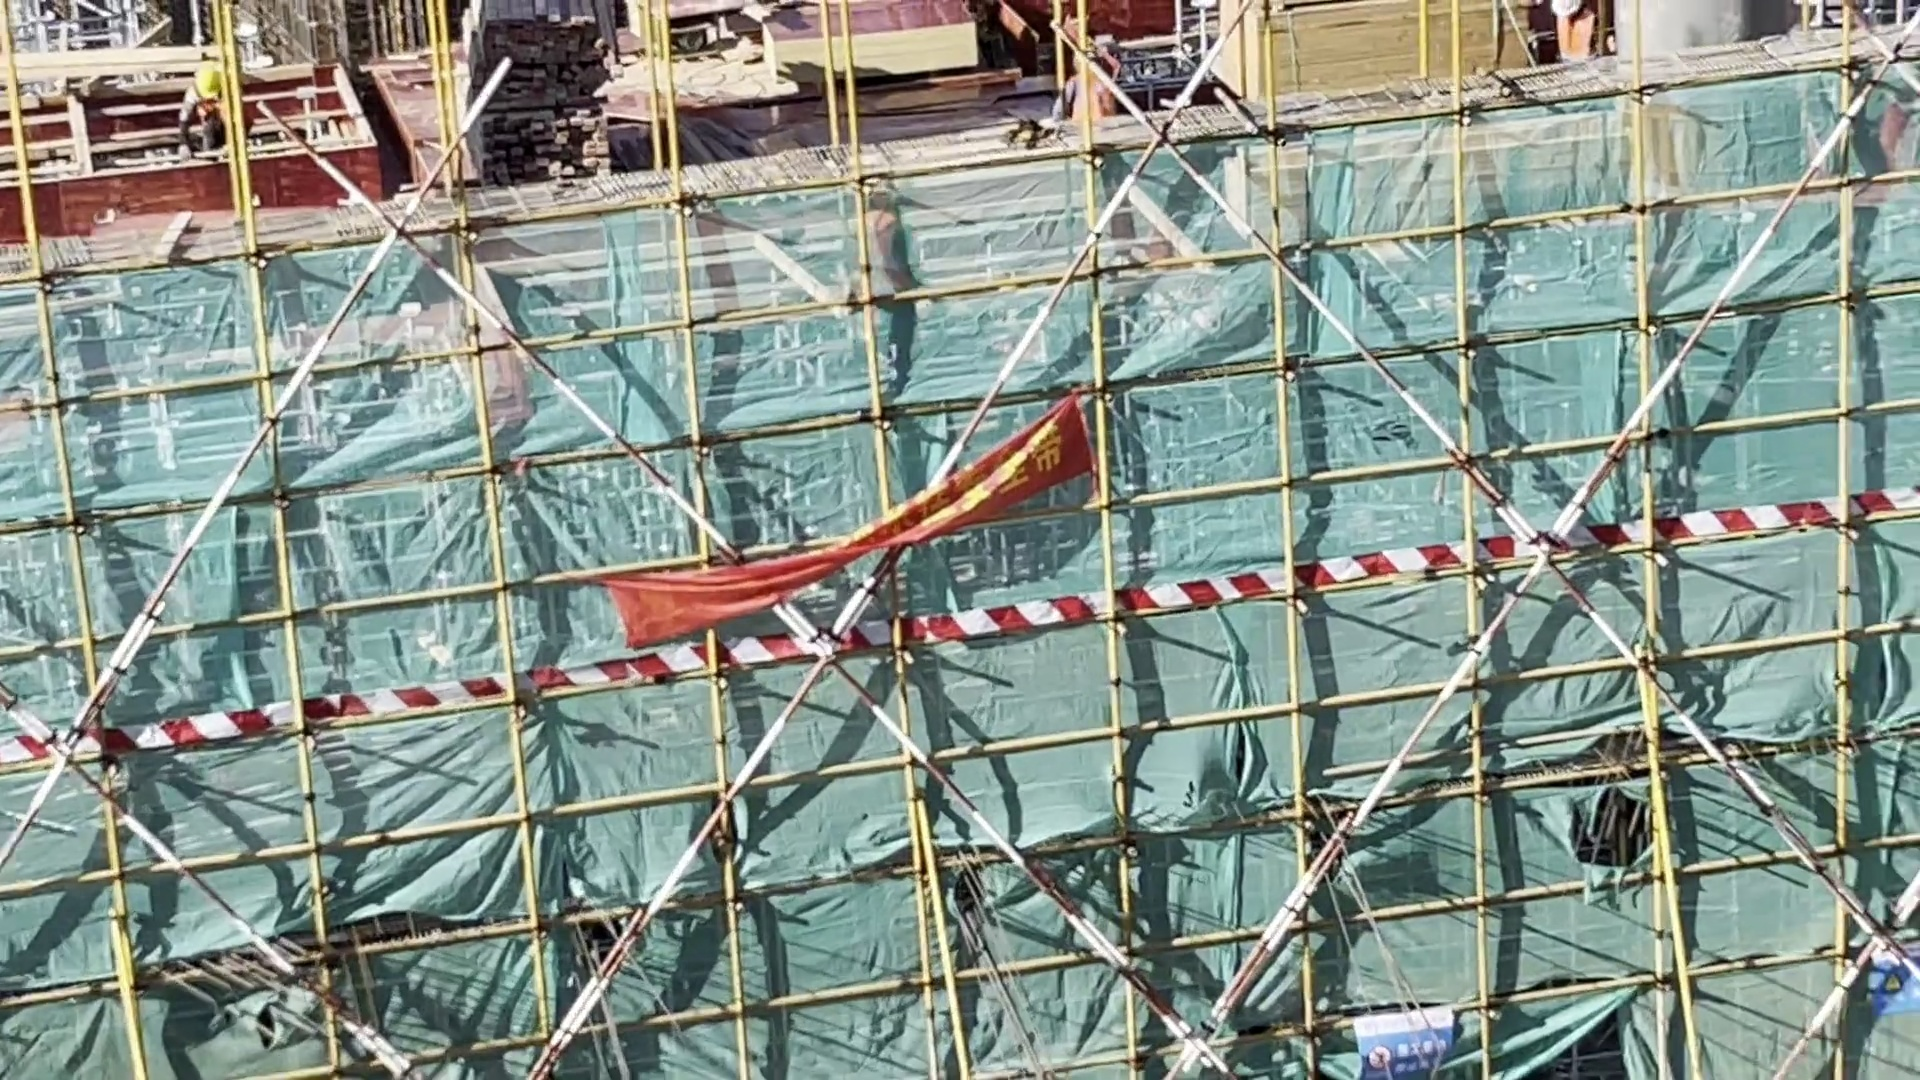helmet: (189, 63, 226, 105)
person: (156, 64, 244, 154)
slogan: (583, 372, 1169, 686), (1336, 956, 1463, 1080)
wood: (446, 1, 637, 186)
